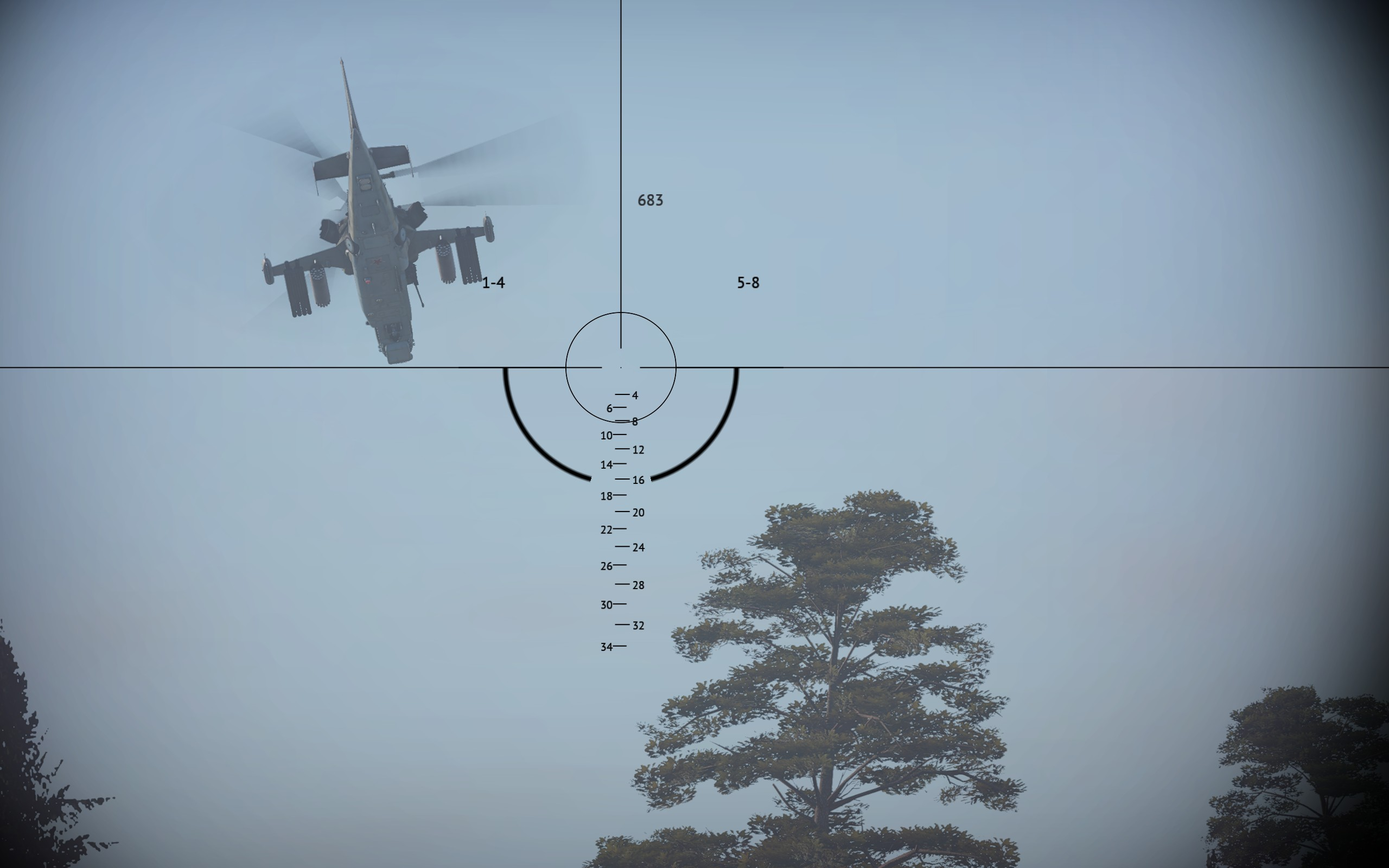ka50: (260, 59, 499, 364)
